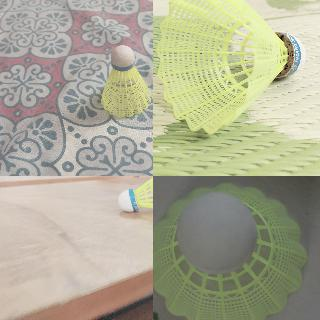shuttlecock: (153, 184, 307, 319), (157, 0, 307, 134), (100, 45, 150, 117), (117, 176, 152, 213)
